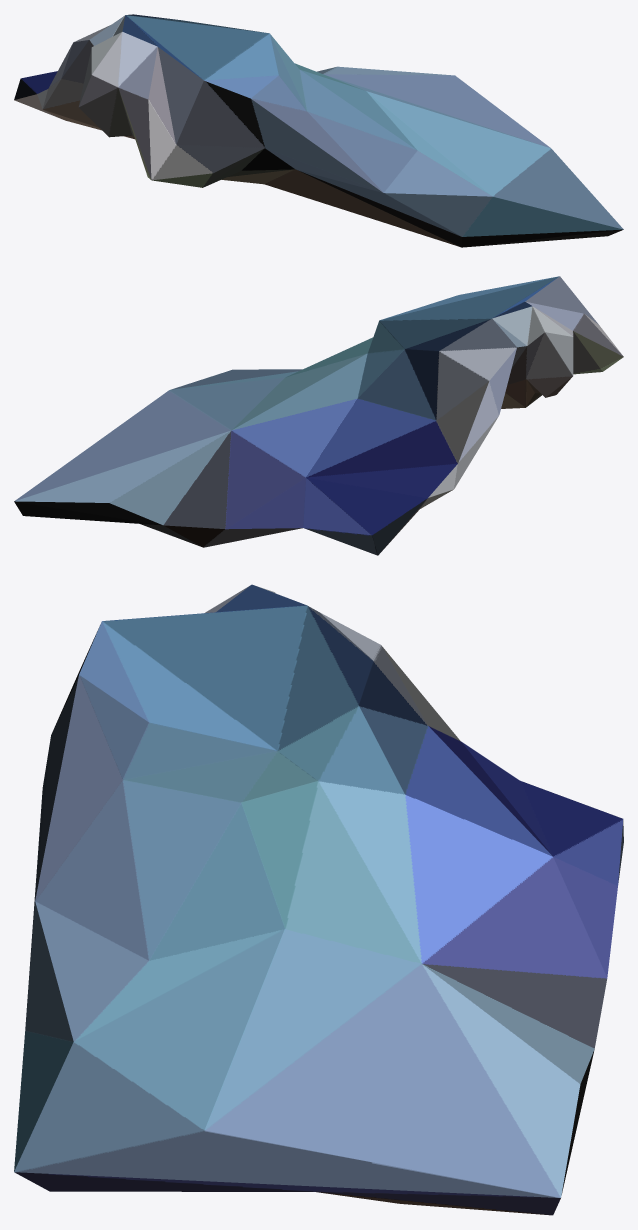
The model's file is avalanche.fbx.
The picture shows the model from 3 angles, top to bottom: view 1: azimuth 30°, elevation 25°; view 2: azimuth 150°, elevation 25°; view 3: azimuth 270°, elevation 25°; orthographic projection. The views are drawn at different scales.
Visible parts, largest first — view 1: Mesh_0; view 2: Mesh_0; view 3: Mesh_0.
Part boxes in pixels (<box>): Mesh_0: <box>14,14,623,247</box>; Mesh_0: <box>14,276,623,555</box>; Mesh_0: <box>14,584,623,1215</box>.
Bounding box in the file's own units: 119 × 58.88 × 94.93.
Materials: 1 (1 with a texture image).
